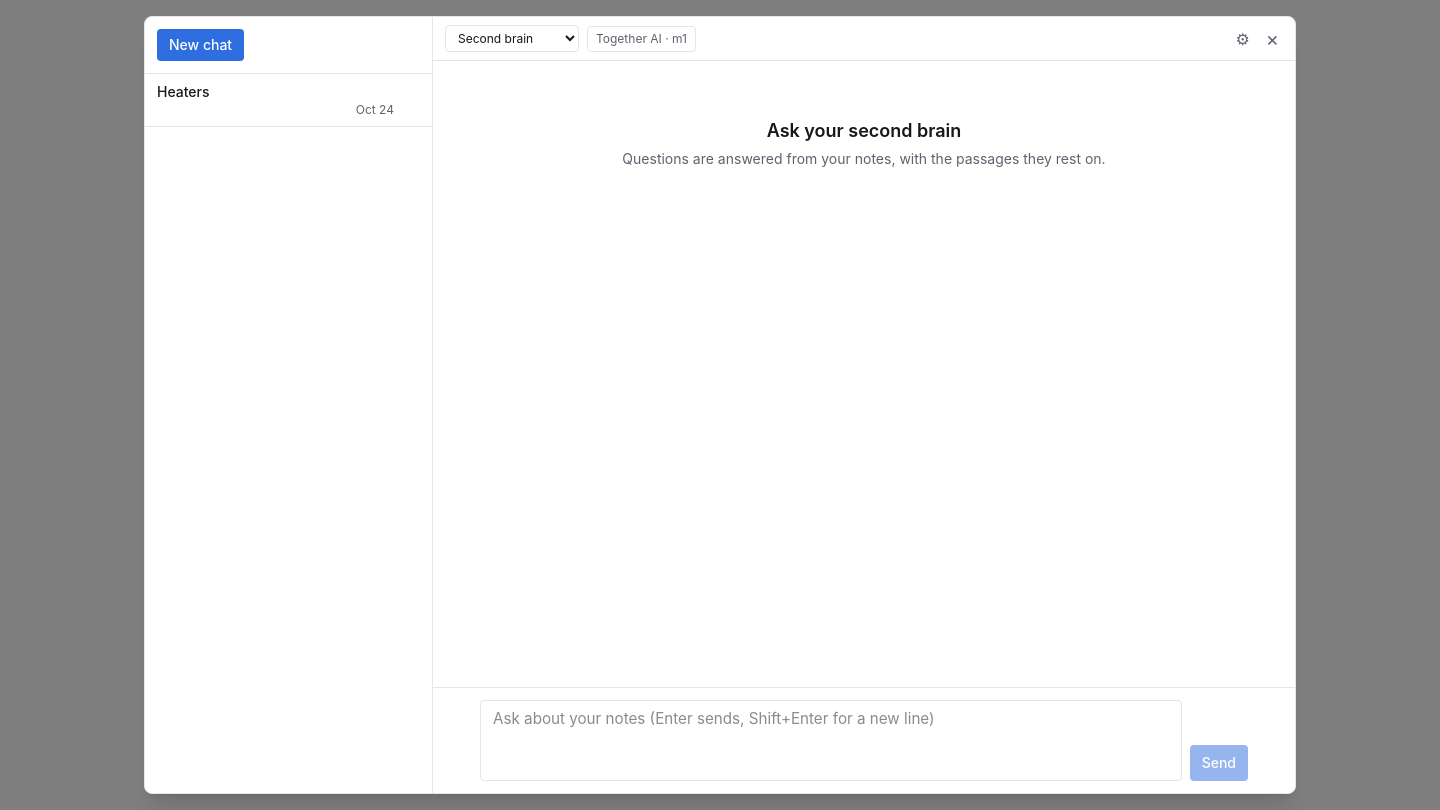
Test: ChatPanel › creates a conversation on the first send and streams the answer in
Replace the text in the text box named "Ask a question" with "Which heater did I pick?" at [831, 740], box [480, 700, 1182, 781]
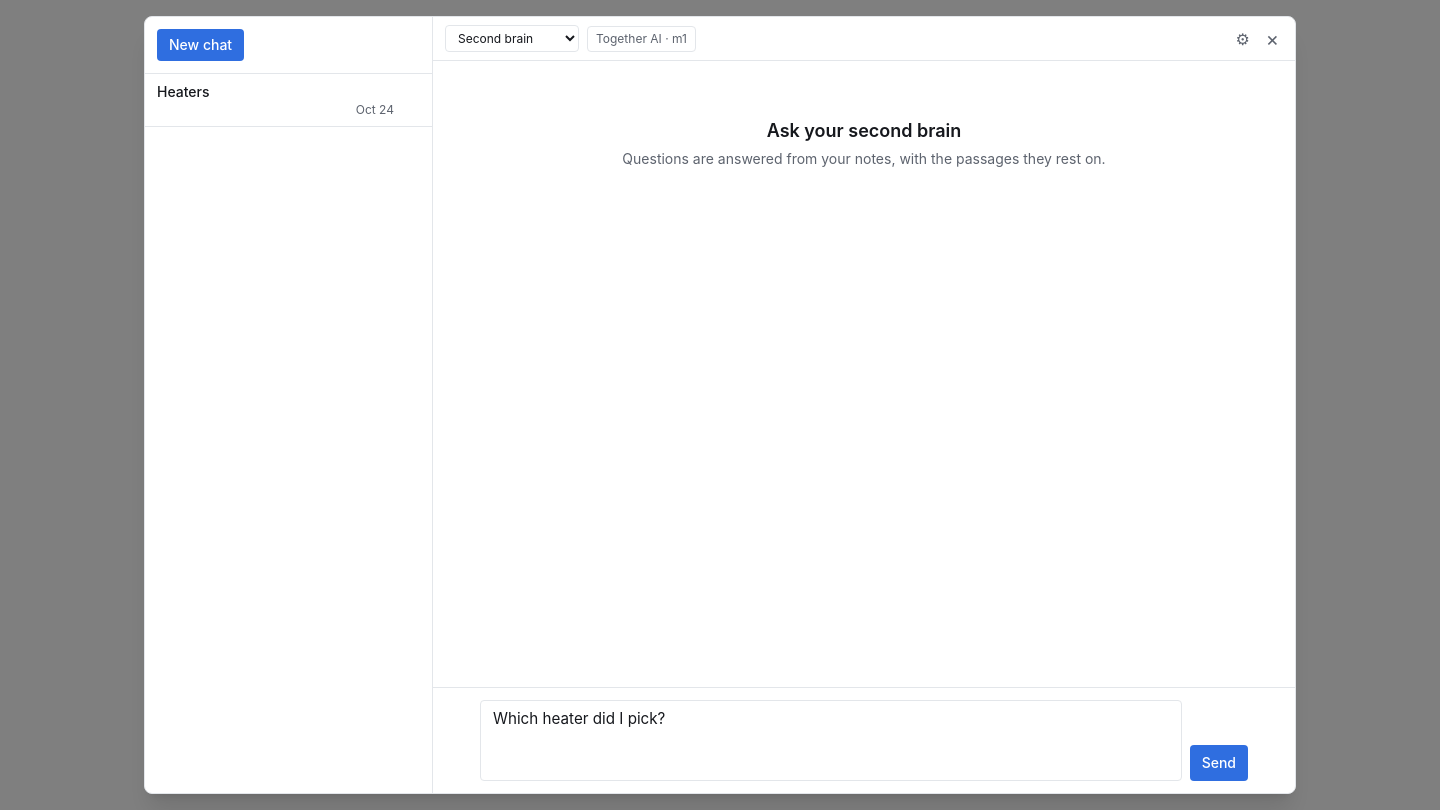
Press Enter in the text box named "Ask a question", box [480, 700, 1182, 781]
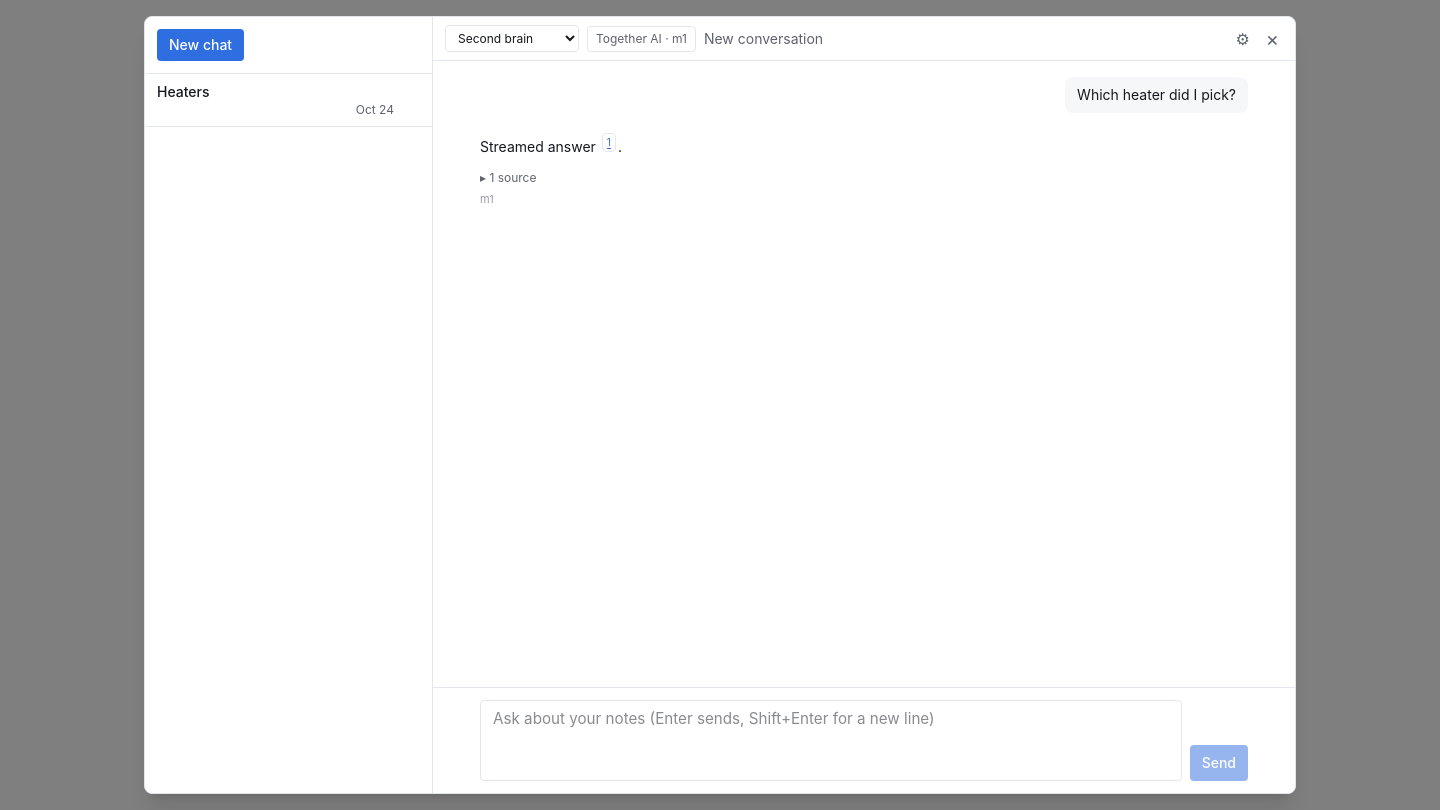
Expected: the text "Which heater did I pick?" is shown, [1065, 77, 1248, 113]
Expected: the text "Streamed answer 1 ." is shown, [480, 133, 622, 155]
